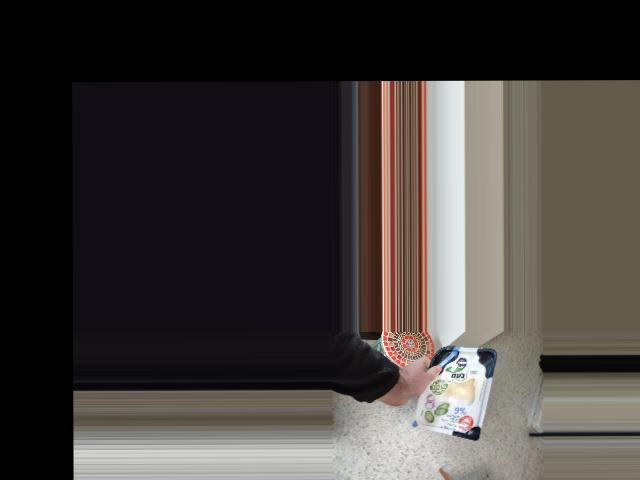cheese: (420, 339, 489, 441)
